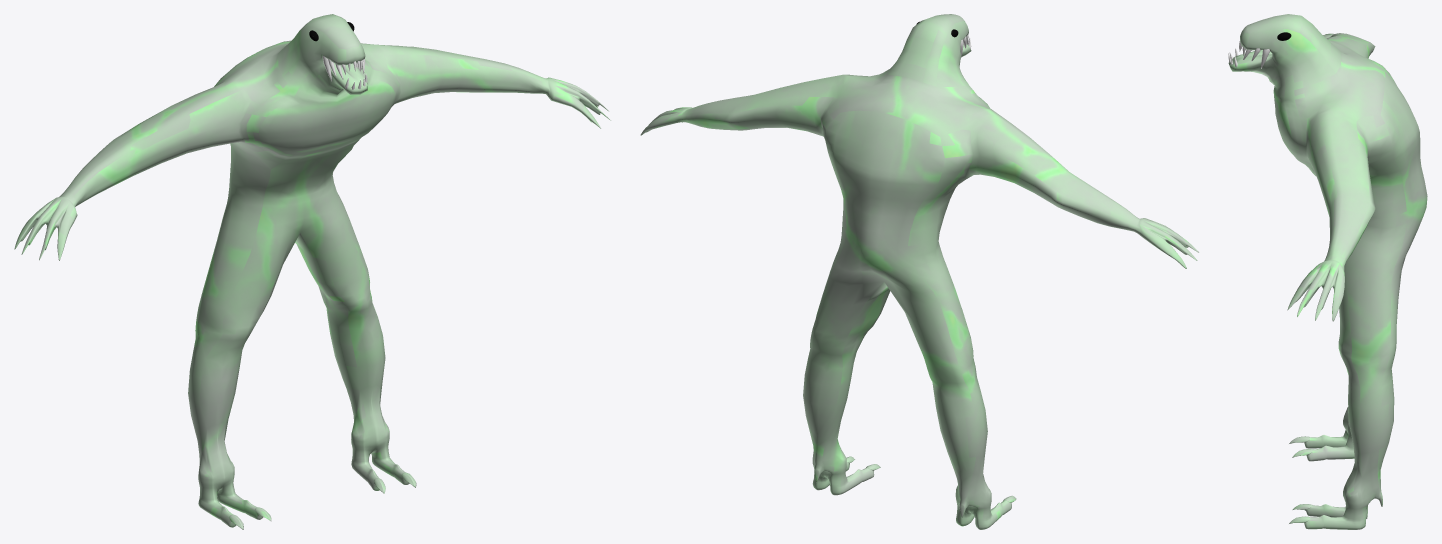
The model's file is alienberserker.obj.
3 renders of one model, left to right at view 1: azimuth 30°, elevation 25°; view 2: azimuth 150°, elevation 25°; view 3: azimuth 270°, elevation 25°, orthographic. The views are drawn at different scales.
Visible parts, largest first — view 1: polySurface27; view 2: polySurface27; view 3: polySurface27.
Part boxes in pixels (x1,y1,x2,y2): polySurface27: (14, 14, 610, 529); polySurface27: (640, 14, 1198, 529); polySurface27: (1228, 14, 1427, 529).
Size of the model in its own units: 29.96 by 24.11 by 9.23.
1 material, 1 textured.
